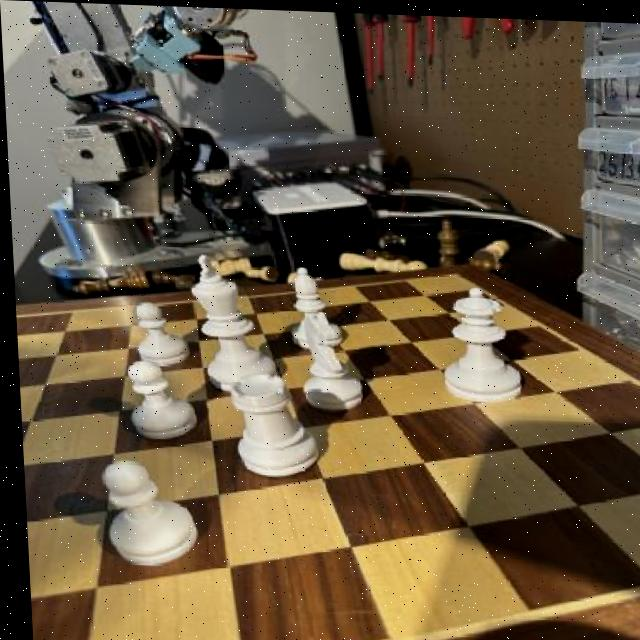black-rook: (284, 262, 327, 350)
white-bishop: (179, 254, 279, 391)
white-king: (280, 305, 373, 413)
white-knight: (85, 459, 199, 561), (108, 358, 204, 442), (111, 301, 196, 369)
white-pawn: (420, 277, 532, 405)
white-queen: (220, 369, 318, 481)
